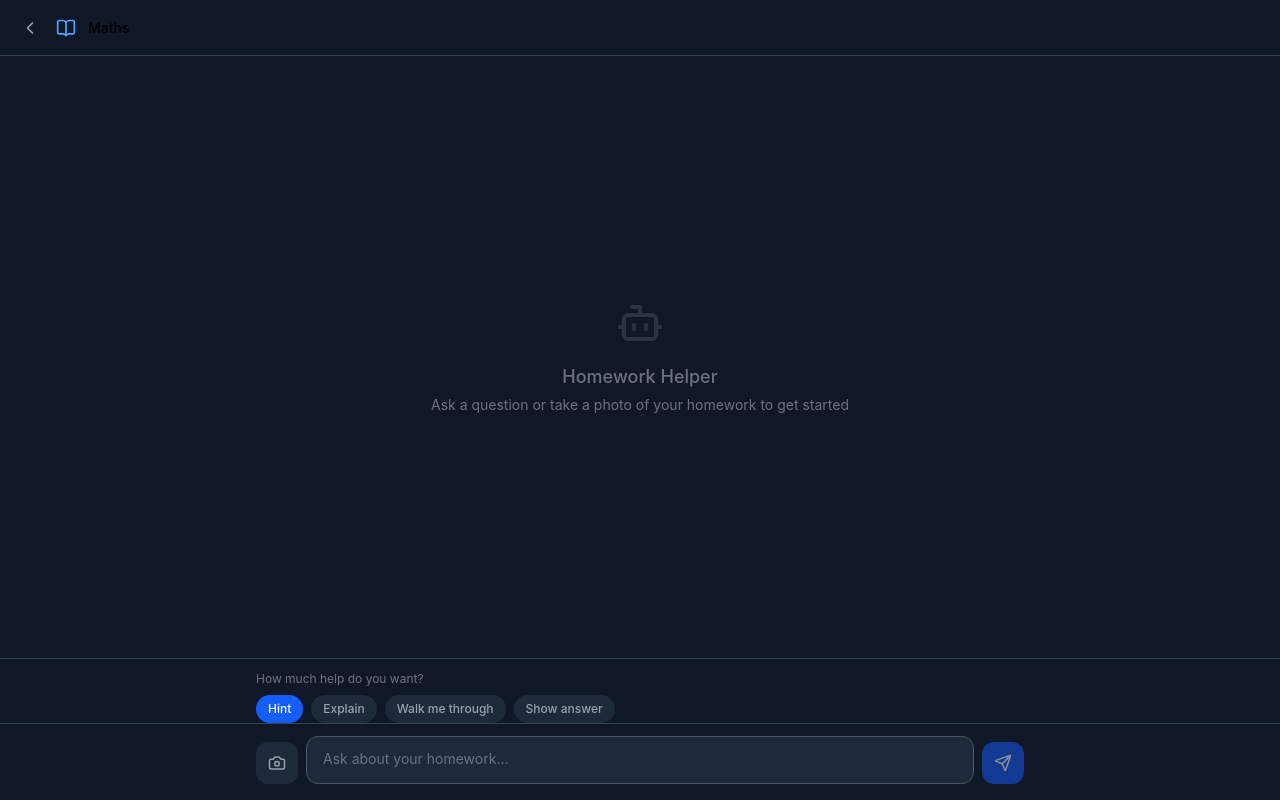
HomeworkChat – optimistic send recovery on failure › removes optimistic bubble and restores draft on network error
Expected: the text "Homework Helper" is shown, 562,363 -> 718,391
Type "My question" into the text box at (640, 760), box 306,736 -> 974,784
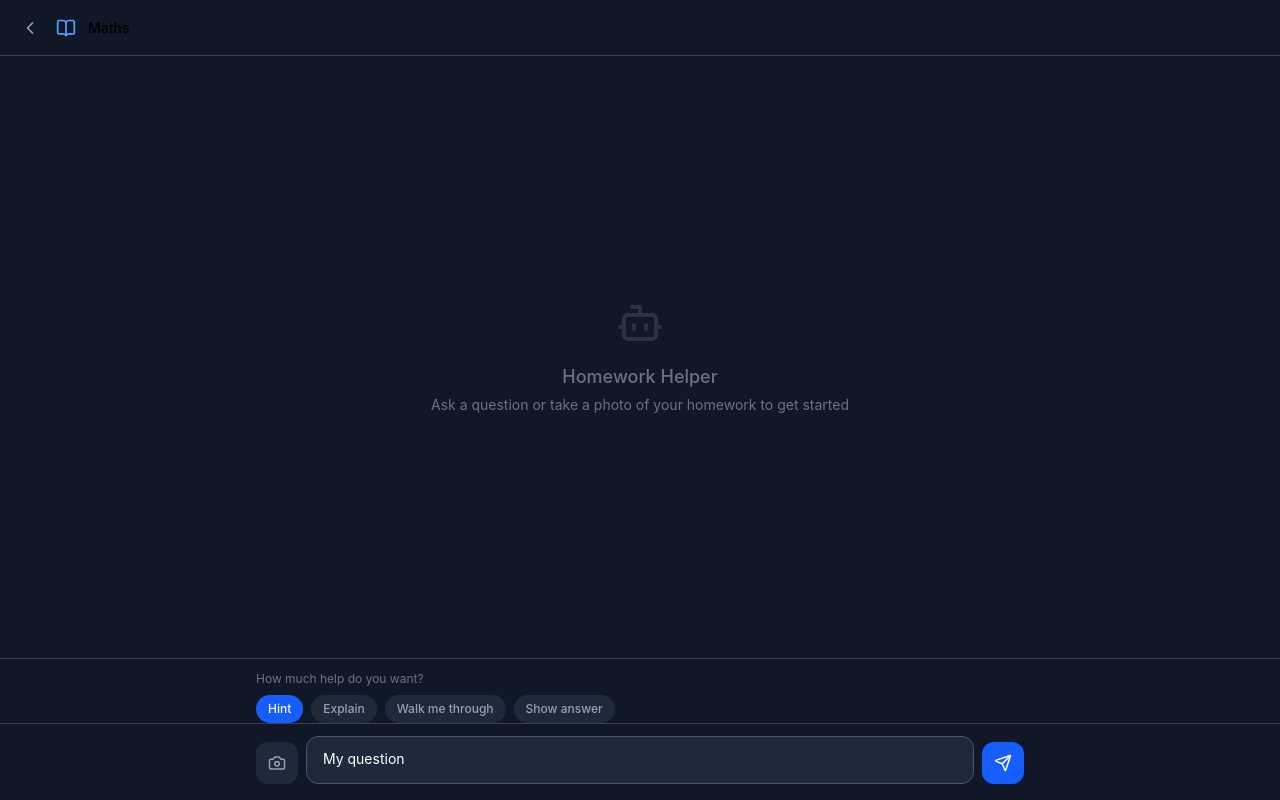
Click the button named "Send message" at (1003, 763), box 982,742 -> 1024,784
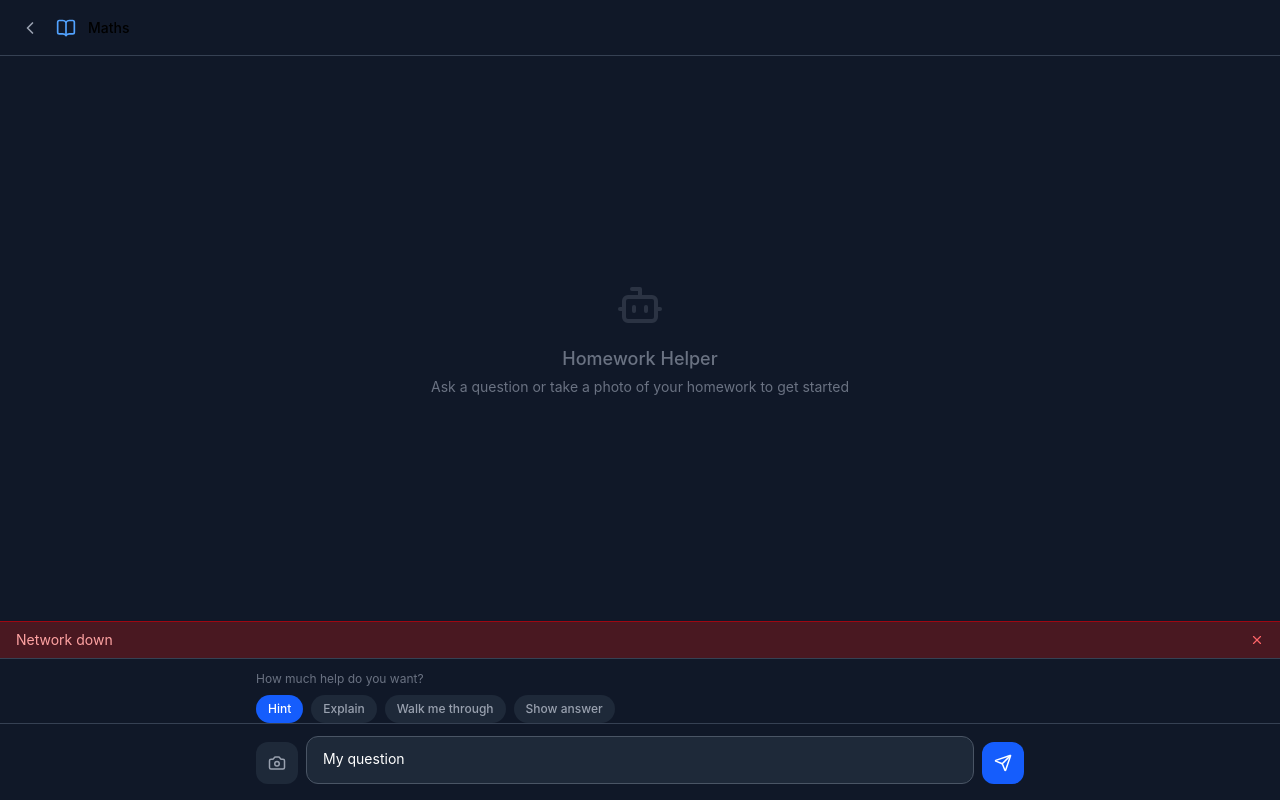
Expected: the text "Network down" is shown, 16,630 -> 113,650
